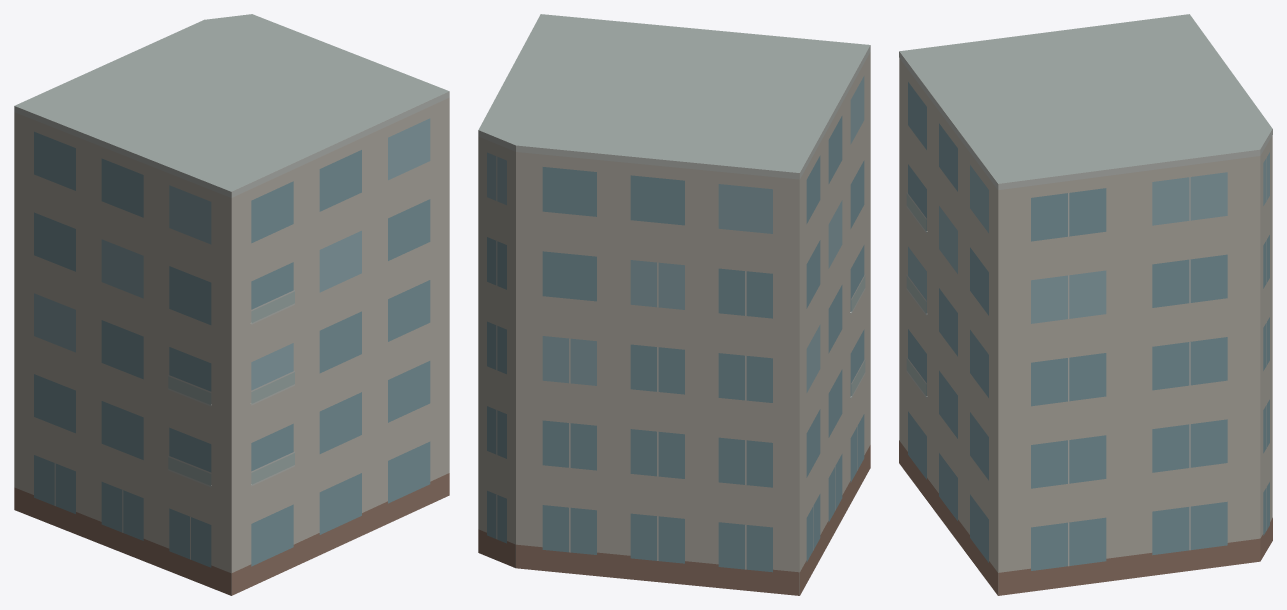
The model's file is survey-upis-32615536.glb.
3 renders of one model, left to right at view 1: azimuth 30°, elevation 25°; view 2: azimuth 150°, elevation 25°; view 3: azimuth 270°, elevation 25°, orthographic. The views are drawn at different scales.
Visible parts, largest first — view 1: survey-upis-32615536.tmp; view 2: survey-upis-32615536.tmp; view 3: survey-upis-32615536.tmp.
Part boxes in pixels (left/top/right/bottom): survey-upis-32615536.tmp: left=14, top=14, right=449, bottom=595; survey-upis-32615536.tmp: left=478, top=14, right=870, bottom=595; survey-upis-32615536.tmp: left=899, top=14, right=1272, bottom=595.
Size of the model in its own units: 14.16 by 16 by 13.16.
